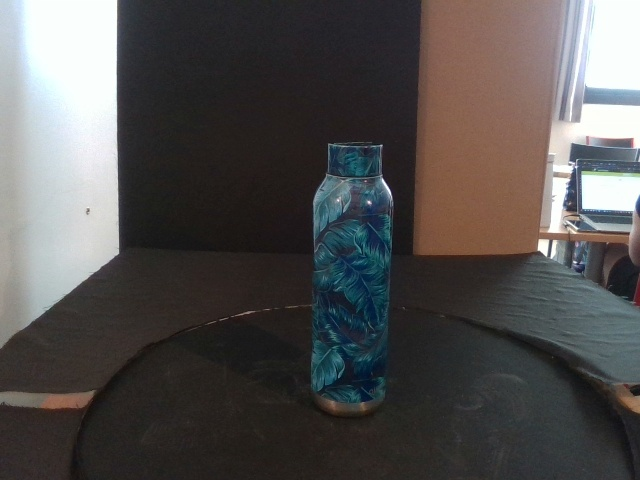bottle: (312, 142, 394, 412)
